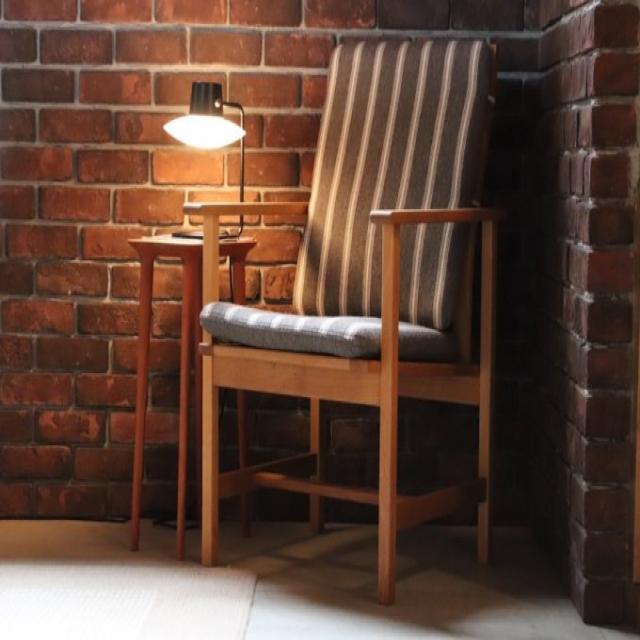chair vintage: (181, 29, 510, 586)
